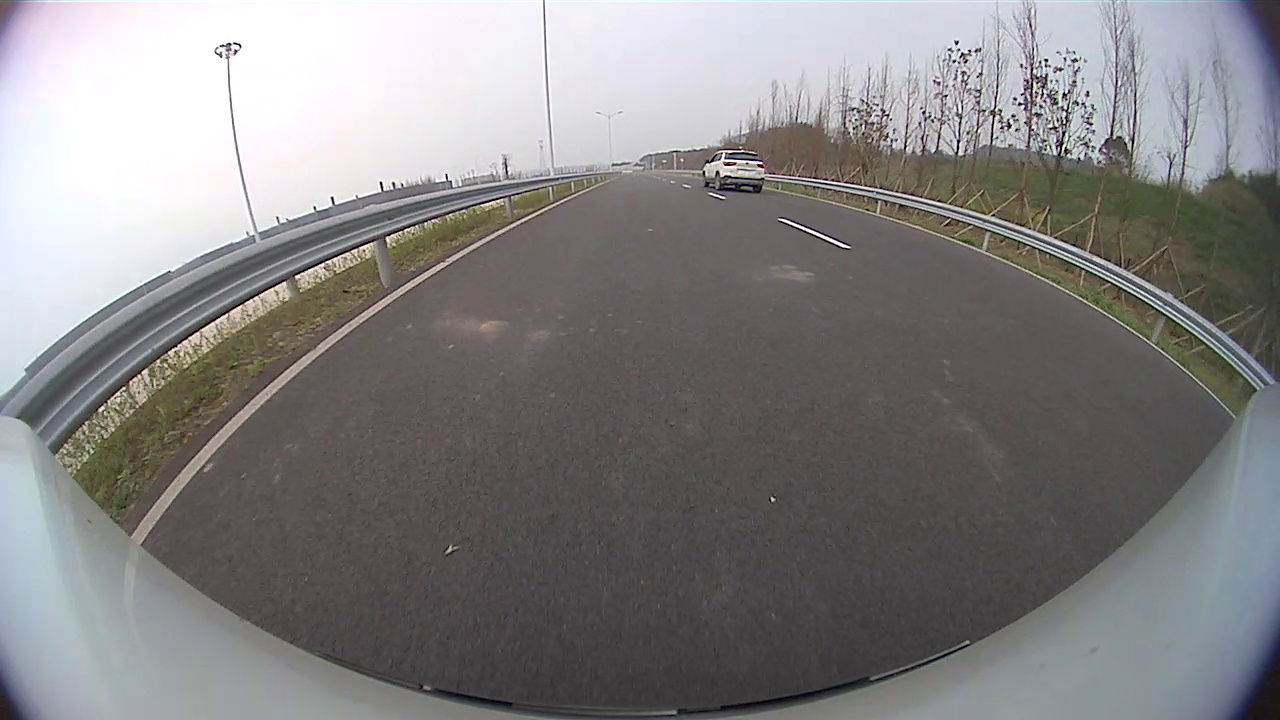car: (702, 149, 765, 192)
rear: (713, 173, 721, 191)
